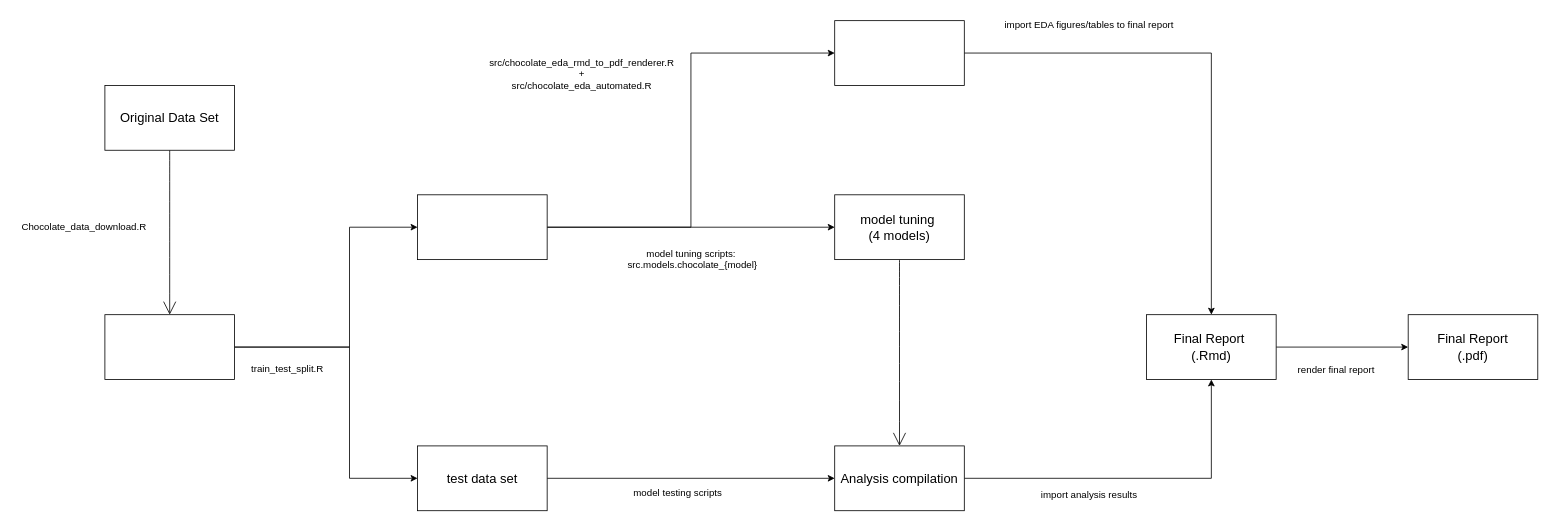
Image size: 1552x527. Some labels were removed from this diagram. The shapes that lost their labels are listed below. From the top down, each one's box as (x1, y1, x2, y2) in pixels, then its label:
(834, 20, 964, 85): EDA Report + Figures/Tables
(417, 194, 547, 260): train data set
(104, 314, 234, 379): chocolate.csv
